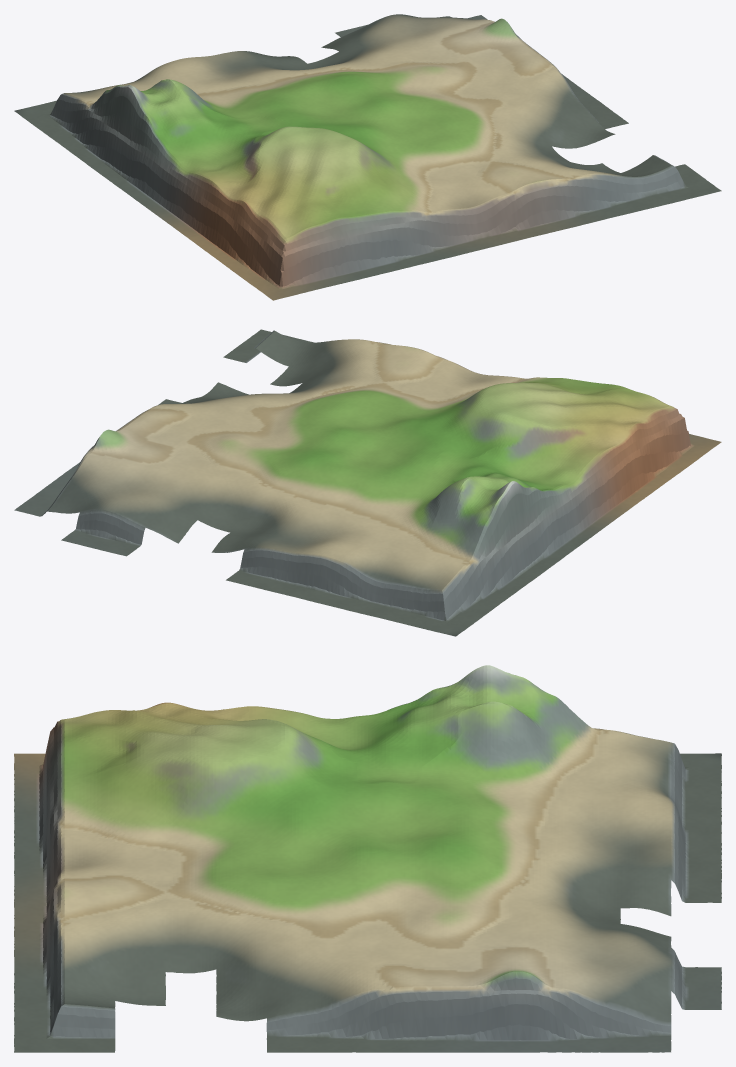
Rendered from birth.glb.
3 renders of one model, top to bottom at view 1: azimuth 30°, elevation 25°; view 2: azimuth 150°, elevation 25°; view 3: azimuth 270°, elevation 25°, orthographic. The views are drawn at different scales.
Visible parts, largest first — view 1: Chunk_-5_6, Chunk_-6_6, Chunk_-4_6, Chunk_-7_-3, Chunk_-3_6, Chunk_-7_-2, Chunk_1_6, Chunk_2_6, Chunk_0_6, Chunk_-7_4, Chunk_-2_6, Chunk_-7_-1 (+106 smaller); view 2: Chunk_-7_-3, Chunk_-7_-4, Chunk_-7_-2, Chunk_-3_-7, Chunk_-7_3, Chunk_-7_1, Chunk_-7_2, Chunk_-7_-5, Chunk_-5_1, Chunk_-2_-7, Chunk_-7_-1, Chunk_-7_4 (+115 smaller); view 3: Chunk_6_-3, Chunk_6_-4, Chunk_6_-2, Chunk_6_-1, Chunk_6_-5, Chunk_6_0, Chunk_-2_3, Chunk_-2_2, Chunk_-4_-3, Chunk_6_5, Chunk_3_4, Chunk_-2_4 (+154 smaller).
Boxes of the visible parts, left/top/right/bottom form: Chunk_-5_6: left=319, top=217, right=368, bottom=284; Chunk_-6_6: left=287, top=224, right=336, bottom=292; Chunk_-4_6: left=351, top=212, right=400, bottom=276; Chunk_-7_-3: left=88, top=85, right=138, bottom=178; Chunk_-3_6: left=383, top=210, right=432, bottom=269; Chunk_-7_-2: left=107, top=97, right=156, bottom=191; Chunk_1_6: left=511, top=180, right=560, bottom=237; Chunk_2_6: left=543, top=177, right=593, bottom=229; Chunk_0_6: left=479, top=192, right=528, bottom=245; Chunk_-7_4: left=218, top=201, right=267, bottom=273; Chunk_-2_6: left=415, top=210, right=464, bottom=261; Chunk_-7_-1: left=125, top=130, right=174, bottom=205; Chunk_-7_-3: left=499, top=481, right=550, bottom=580; Chunk_-7_-4: left=480, top=499, right=531, bottom=594; Chunk_-7_-2: left=519, top=484, right=569, bottom=566; Chunk_-3_-7: left=291, top=554, right=342, bottom=604; Chunk_-7_3: left=613, top=424, right=664, bottom=497; Chunk_-7_1: left=575, top=455, right=626, bottom=525; Chunk_-7_2: left=594, top=442, right=645, bottom=511; Chunk_-7_-5: left=461, top=537, right=512, bottom=608; Chunk_-5_1: left=509, top=417, right=560, bottom=466; Chunk_-2_-7: left=258, top=549, right=309, bottom=596; Chunk_-7_-1: left=540, top=487, right=588, bottom=552; Chunk_-7_4: left=632, top=413, right=683, bottom=483; Chunk_6_-3: left=469, top=971, right=519, bottom=1052; Chunk_6_-4: left=519, top=971, right=570, bottom=1052; Chunk_6_-2: left=418, top=986, right=469, bottom=1052; Chunk_6_-1: left=368, top=986, right=418, bottom=1052; Chunk_6_-5: left=570, top=990, right=620, bottom=1052; Chunk_6_0: left=317, top=991, right=367, bottom=1052; Chunk_-2_3: left=165, top=771, right=216, bottom=831; Chunk_-2_2: left=216, top=771, right=266, bottom=826; Chunk_-4_-3: left=469, top=739, right=519, bottom=792; Chunk_6_5: left=64, top=1004, right=115, bottom=1052; Chunk_3_4: left=115, top=926, right=165, bottom=971; Chunk_-2_4: left=115, top=788, right=165, bottom=837.
Size of the model in its own units: 140 by 24 by 140.
